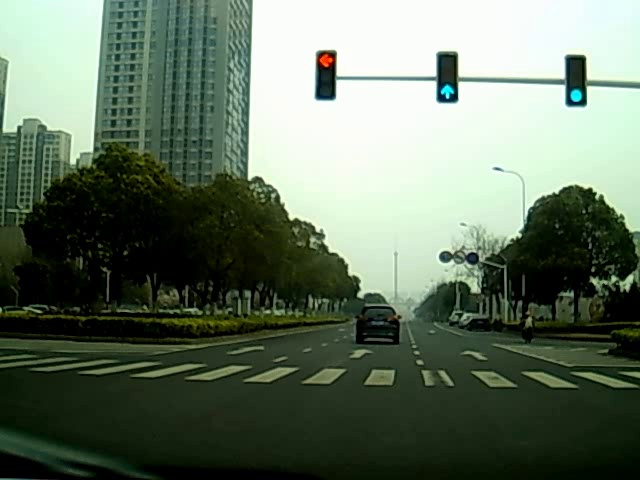Traffic_Light_go: (439, 53, 457, 104), (568, 56, 585, 109)
Traffic_Light_stop: (316, 54, 335, 82)
